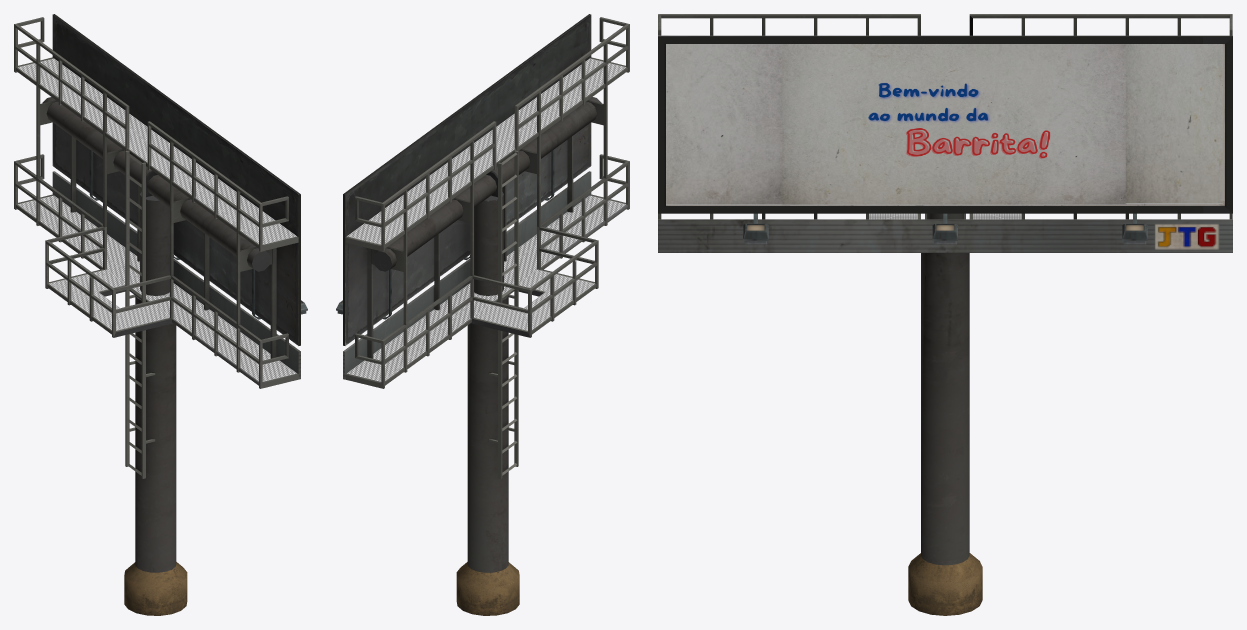
File: Billboard.glb
3 renders of one model, left to right at view 1: azimuth 30°, elevation 25°; view 2: azimuth 150°, elevation 25°; view 3: azimuth 270°, elevation 25°, orthographic. The views are drawn at different scales.
Visible parts, largest first — view 1: Billboard_Large, Platform, Post, Alpha; view 2: Billboard_Large, Platform, Post, Alpha; view 3: Billboard_Large, Post, Platform.
Boxes of the visible parts, bbox=[...] form: Billboard_Large: bbox=[52, 14, 307, 379]; Platform: bbox=[14, 17, 298, 478]; Post: bbox=[40, 97, 271, 615]; Alpha: bbox=[17, 58, 296, 381]; Billboard_Large: bbox=[336, 14, 591, 379]; Platform: bbox=[345, 17, 629, 478]; Post: bbox=[371, 97, 603, 615]; Alpha: bbox=[347, 58, 626, 381]; Billboard_Large: bbox=[658, 35, 1232, 252]; Post: bbox=[908, 213, 982, 615]; Platform: bbox=[658, 14, 1232, 219].
Bounding box in the file's own units: 3.68 × 12.23 × 11.07.
Materials: 1 (1 with a texture image).
